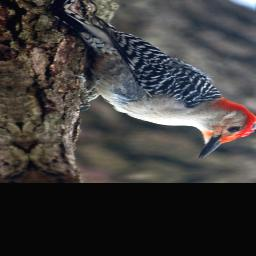Woodpecker: (47, 0, 256, 165)
